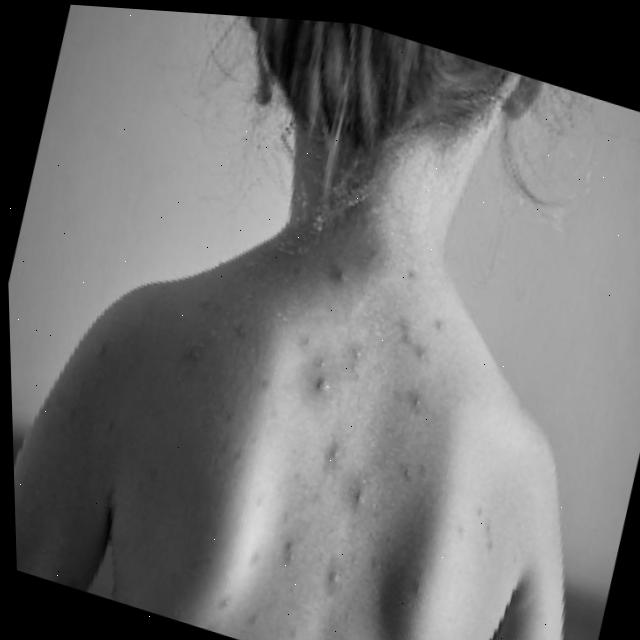Eczema: (208, 256, 492, 640)
